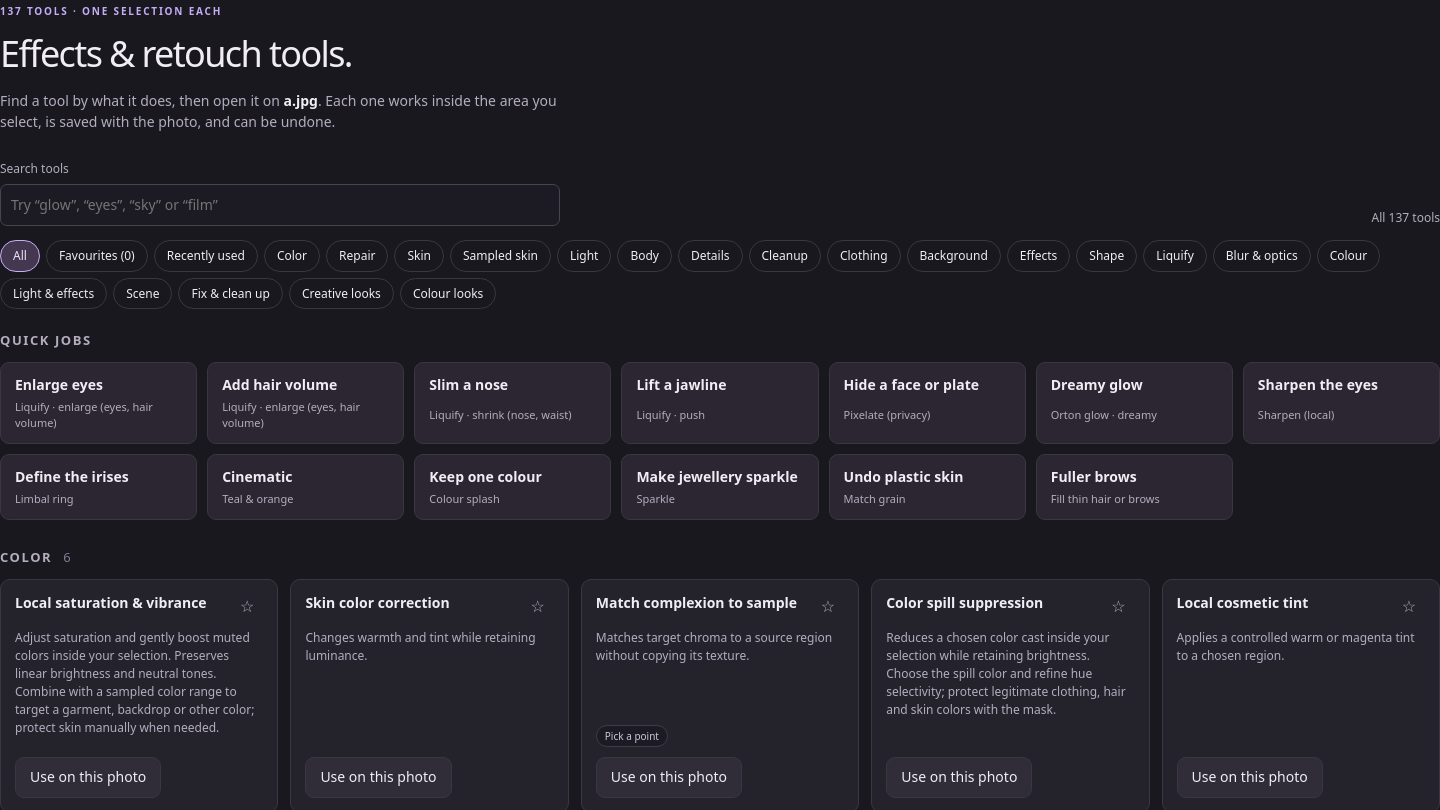
it: search narrows by name, group and description together
The image size is (1440, 810).
Type "jewellery" into the search field labelled "Search tools" at (280, 205), box left=0, top=184, right=560, bottom=226
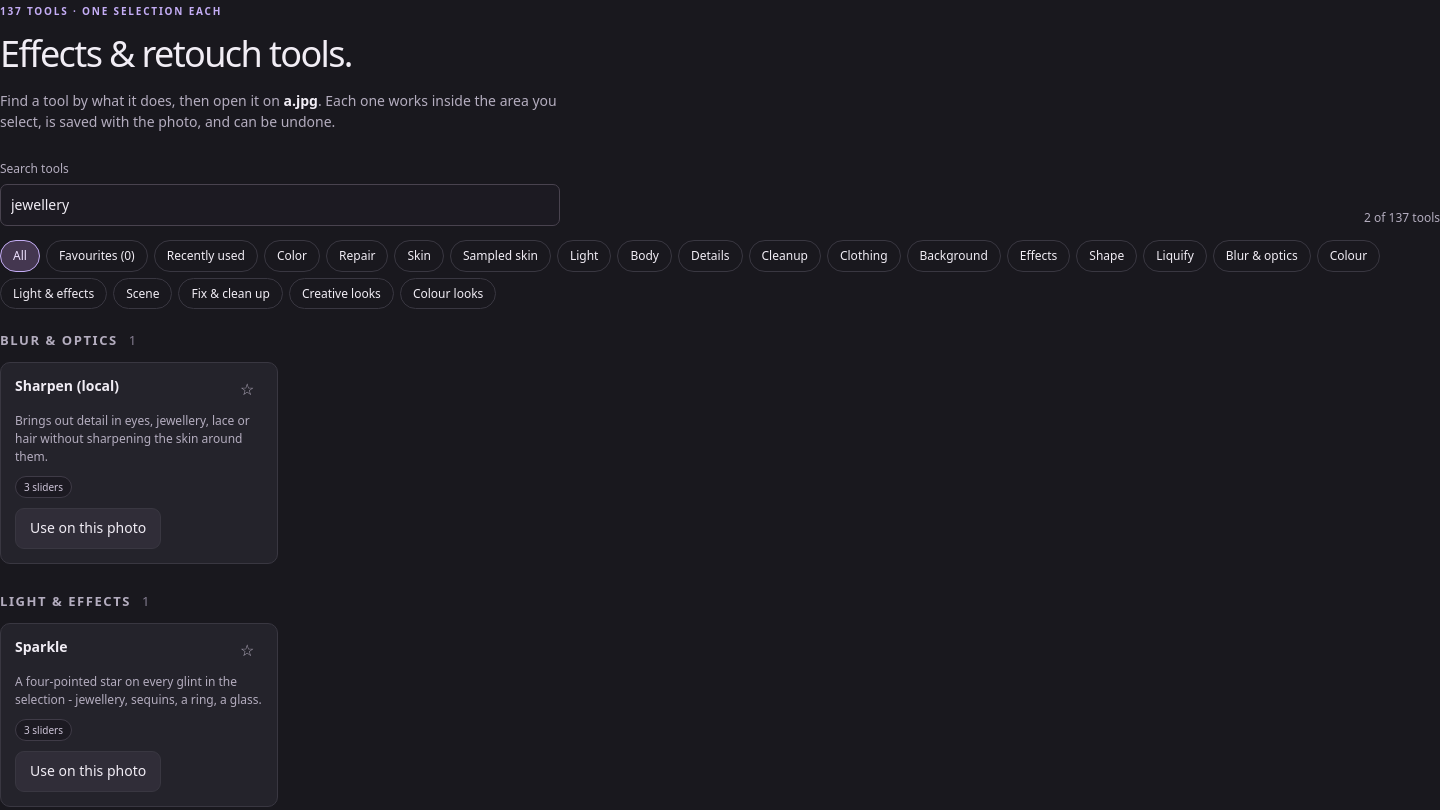
Expected: the heading "Sparkle" is shown, left=15, top=638, right=68, bottom=656
Now the heading "Quick jobs" is gone
Replace the text in the search field labelled "Search tools" with "nothing matches this" at (280, 205), box left=0, top=184, right=560, bottom=226
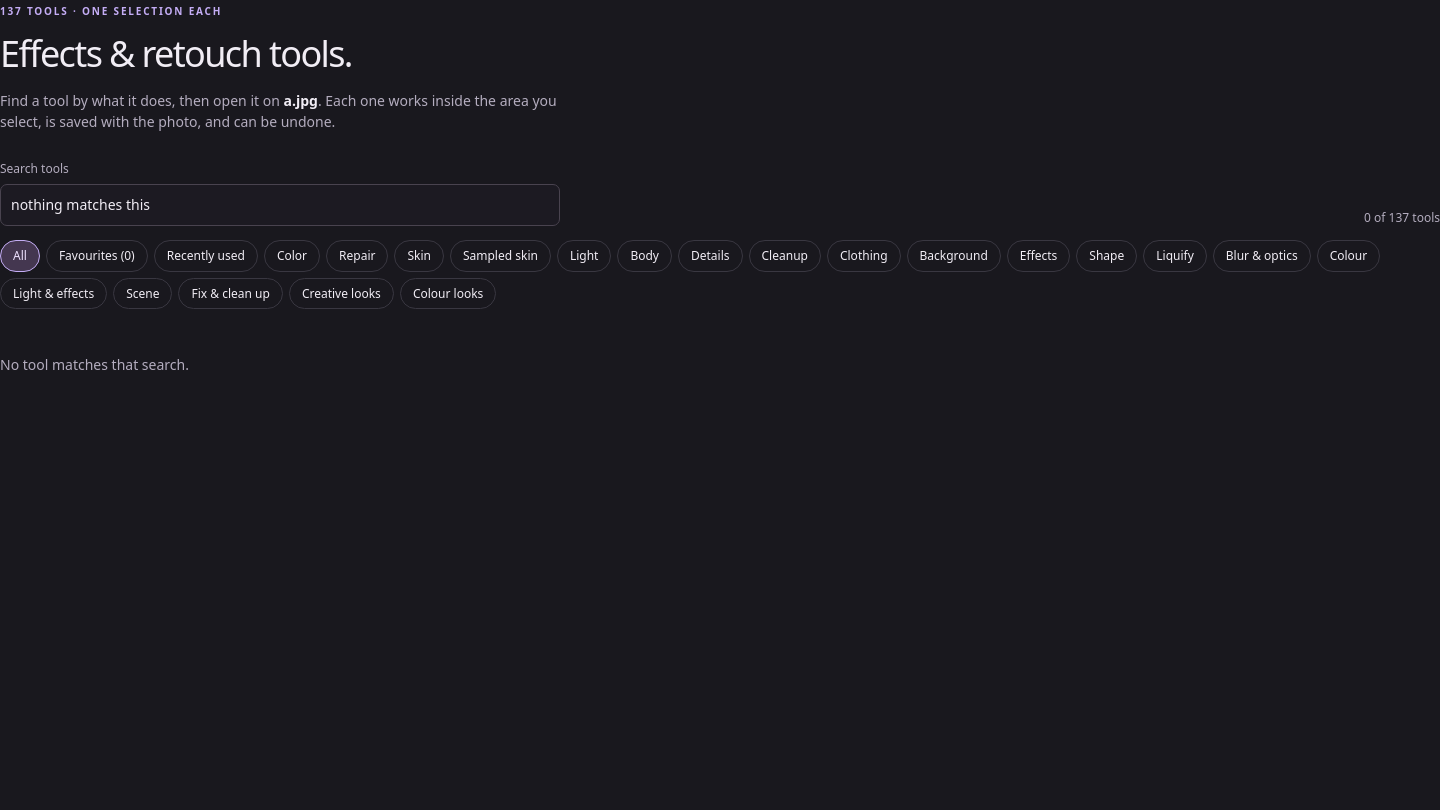
Now the text "No tool matches that search." is shown, box left=0, top=355, right=189, bottom=374
